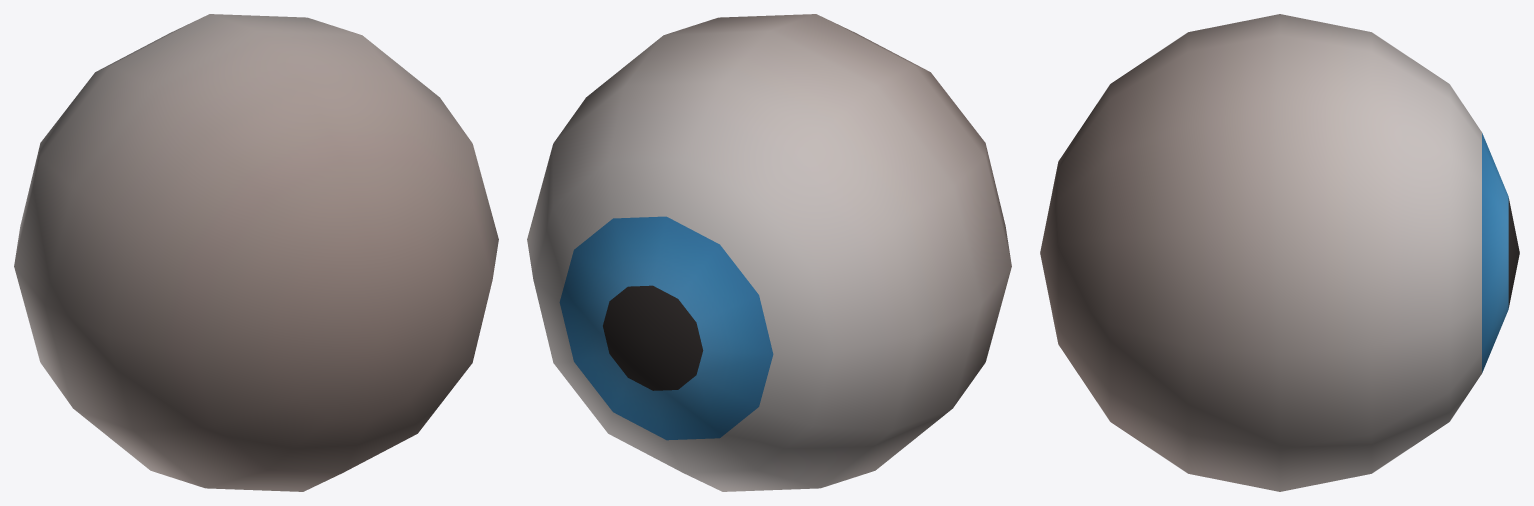
File: Eyeball1.fbx
3 views of the same model, side by side, from view 1: azimuth 30°, elevation 25°; view 2: azimuth 150°, elevation 25°; view 3: azimuth 270°, elevation 25° (orthographic).
Visible parts, largest first — view 1: Eyeball1; view 2: Eyeball1; view 3: Eyeball1.
Part boxes in pixels (x1,y1,x2,y2): Eyeball1: [14, 14, 498, 491]; Eyeball1: [527, 14, 1011, 491]; Eyeball1: [1040, 14, 1519, 491].
Size of the model in its own units: 3 by 3 by 3.
